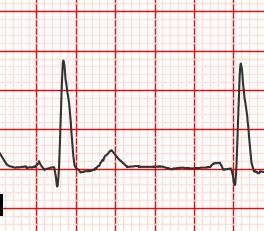Pathological Q Wave: (20, 158, 68, 189), (200, 160, 245, 190)
